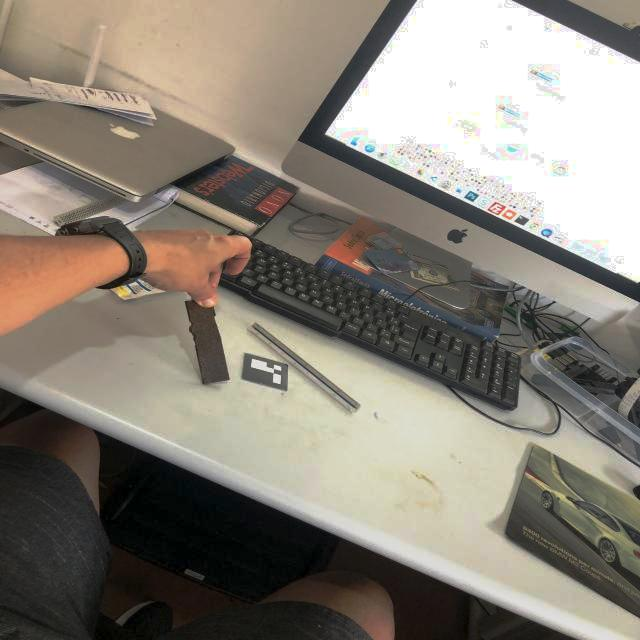Corrosion: (185, 300, 230, 384)
